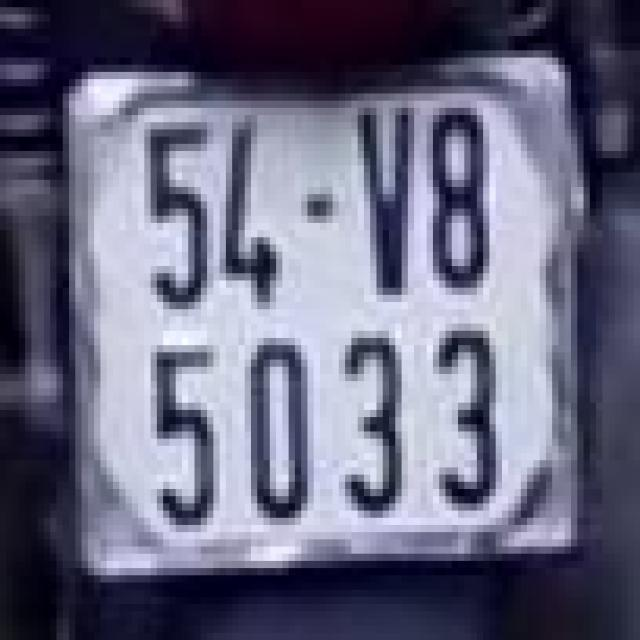0: (232, 334, 326, 536)
3: (427, 313, 508, 521), (336, 320, 411, 521)
4: (213, 104, 295, 313)
5: (135, 108, 223, 316), (144, 324, 220, 525)
8: (427, 104, 502, 298)
V: (345, 97, 420, 306)
